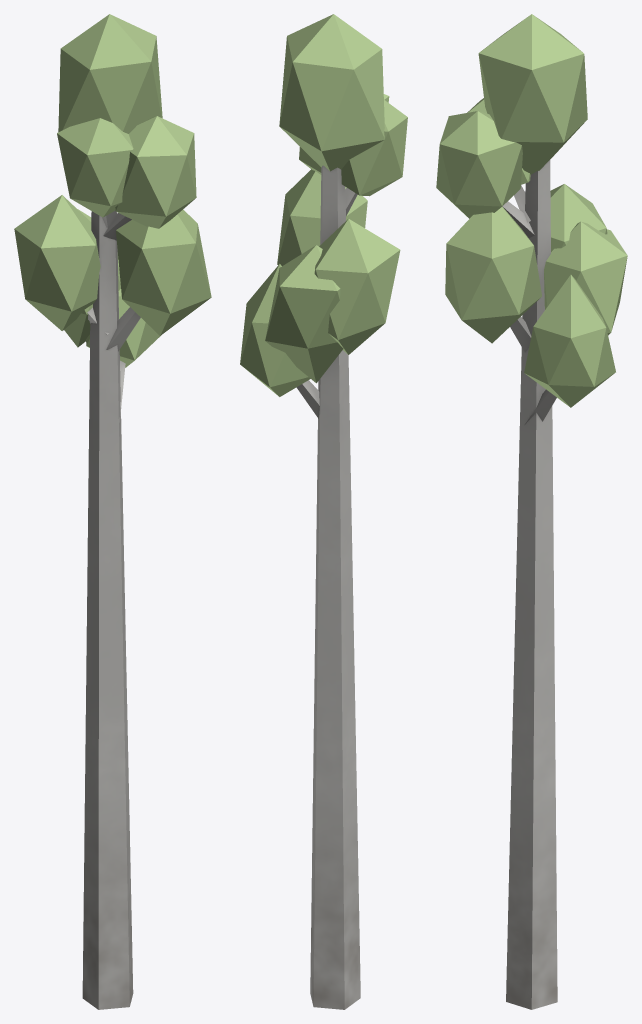
File: arv_betula_2.glb
The picture shows the model from 3 angles, left to right: view 1: azimuth 30°, elevation 25°; view 2: azimuth 150°, elevation 25°; view 3: azimuth 270°, elevation 25°; orthographic projection.
Visible parts, largest first — view 1: arv_betula_2; view 2: arv_betula_2; view 3: arv_betula_2.
Boxes of the visible parts, x1,y1,x2,y2 form: arv_betula_2: (14,14,211,1009); arv_betula_2: (240,14,407,1009); arv_betula_2: (436,14,627,1009).
Bounding box in the file's own units: 0.3767 × 2.6 × 0.4581.
Materials: 2 (1 with a texture image).
